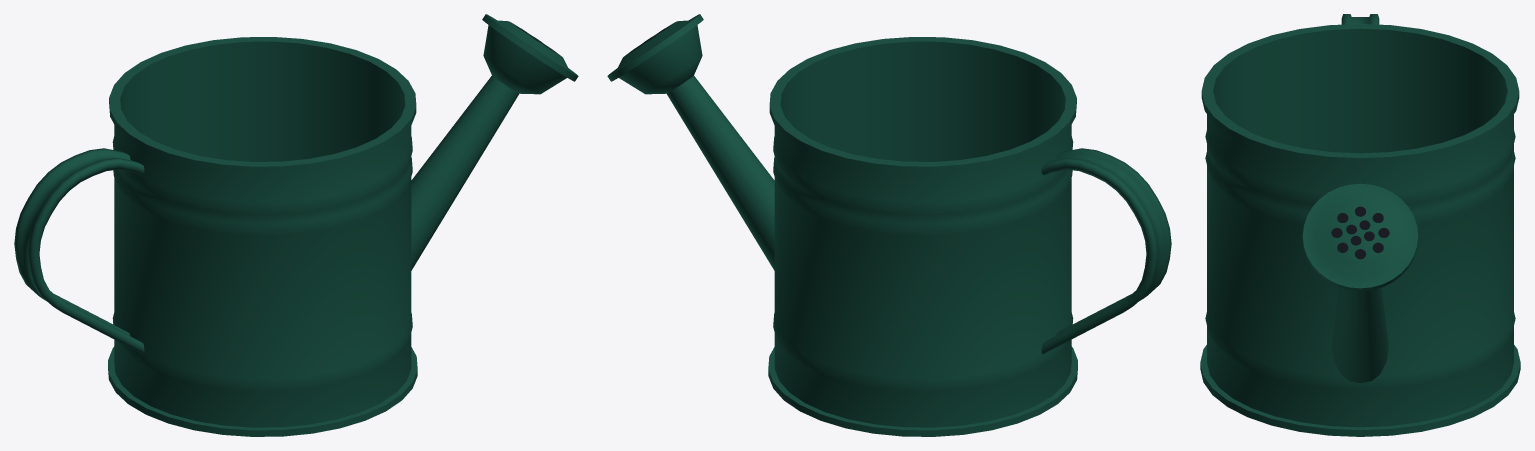
The model's file is WateringCan.fbx.
The picture shows the model from 3 angles, left to right: view 1: azimuth 30°, elevation 25°; view 2: azimuth 150°, elevation 25°; view 3: azimuth 270°, elevation 25°; orthographic projection. The views are drawn at different scales.
Visible parts, largest first — view 1: WateringCan; view 2: WateringCan; view 3: WateringCan.
Boxes of the visible parts, x1,y1,x2,y2 form: WateringCan: (14,14,578,436); WateringCan: (607,14,1171,436); WateringCan: (1200,14,1520,436).
Bounding box in the file's own units: 2.14 × 1.1 × 1.05.
